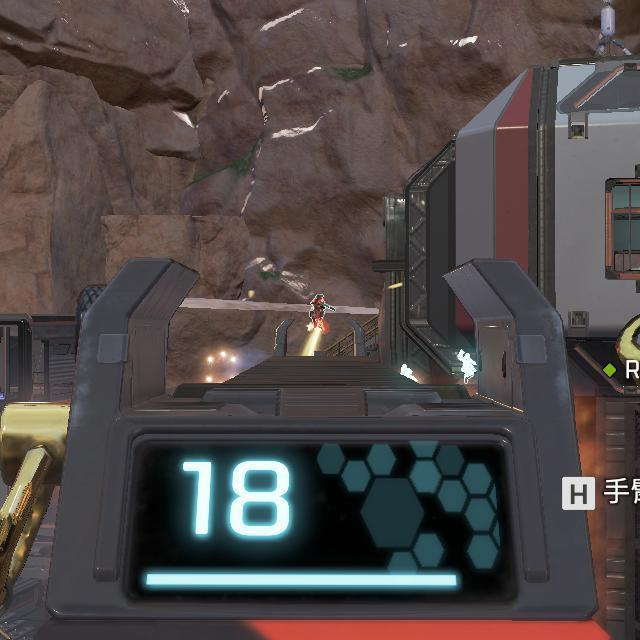avatar: (307, 292, 328, 334)
